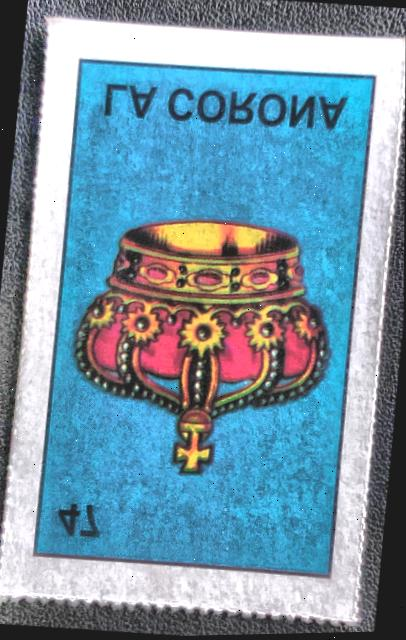La Corona: (5, 25, 394, 616)
